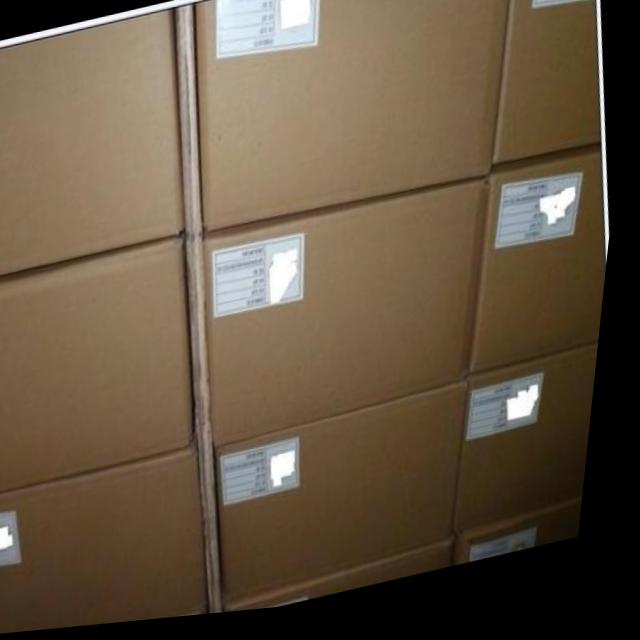box: (208, 194, 494, 454), (197, 0, 511, 236), (226, 394, 477, 612), (0, 237, 203, 496), (0, 12, 191, 280), (0, 452, 219, 636), (478, 160, 613, 382), (465, 358, 607, 543), (498, 0, 605, 177), (242, 550, 465, 618), (466, 508, 595, 576)
